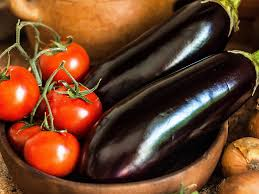eggplant: (89, 39, 259, 194), (89, 0, 252, 115)
tomato: (0, 46, 45, 136), (19, 128, 85, 184), (43, 85, 113, 134), (35, 36, 93, 84)
